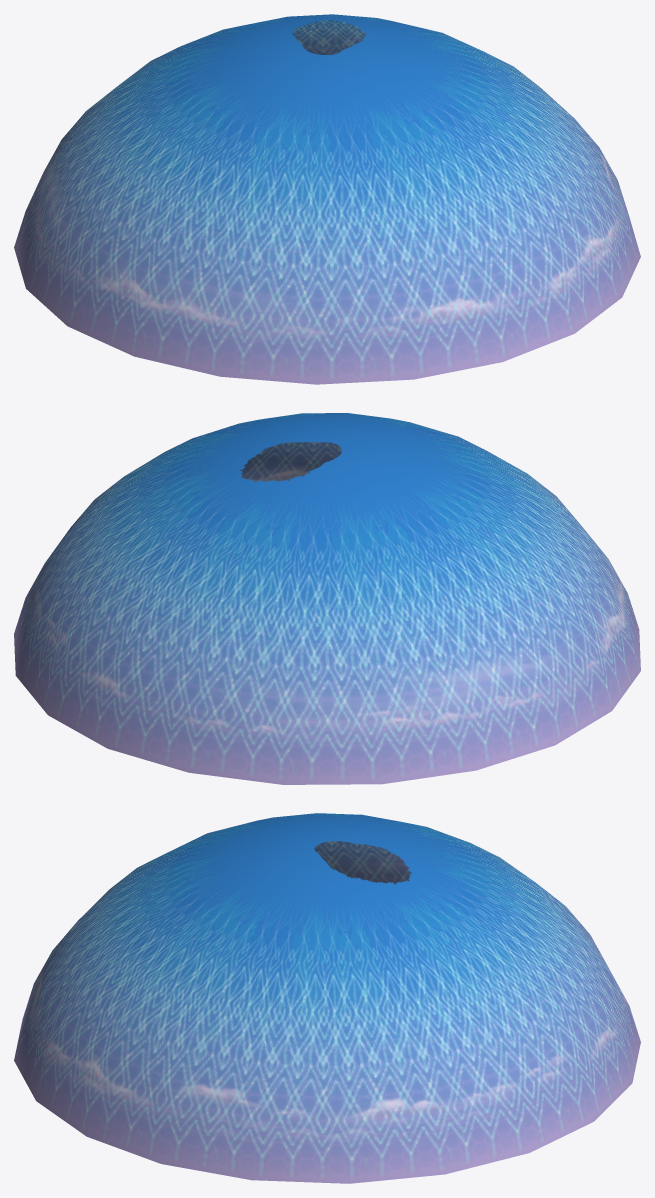
File: sb_obj_sky_Barrier_Noon.fbx
The picture shows the model from 3 angles, top to bottom: view 1: azimuth 30°, elevation 25°; view 2: azimuth 150°, elevation 25°; view 3: azimuth 270°, elevation 25°; orthographic projection.
Visible parts, largest first — view 1: sky; view 2: sky; view 3: sky.
Part boxes in pixels (<box>): sky: <box>14,14,640,384</box>; sky: <box>14,413,640,784</box>; sky: <box>14,813,640,1183</box>.
Size of the model in its own units: 985 by 356 by 985.
